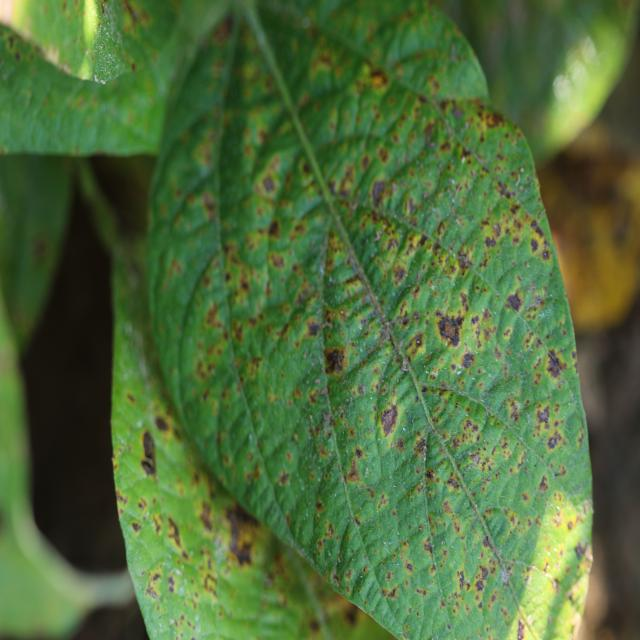Bacterial_Blight: (440, 404, 500, 467), (323, 298, 363, 354), (469, 311, 492, 351), (441, 308, 463, 349), (244, 229, 268, 259), (379, 403, 399, 436), (212, 17, 233, 46), (404, 332, 426, 359), (325, 347, 345, 375), (345, 456, 364, 484), (503, 397, 522, 425), (545, 349, 562, 378), (371, 179, 388, 206), (206, 302, 223, 329), (474, 564, 490, 592), (367, 68, 388, 88), (423, 121, 439, 146), (536, 404, 550, 430), (505, 291, 522, 312), (202, 194, 218, 216), (457, 252, 474, 272), (320, 409, 332, 435), (415, 437, 429, 459), (574, 540, 588, 561), (270, 252, 285, 271), (392, 265, 406, 285), (461, 350, 475, 369), (262, 175, 276, 194), (381, 584, 398, 599), (306, 319, 320, 337), (268, 218, 280, 238), (517, 620, 527, 640), (500, 566, 510, 586), (538, 474, 549, 492), (377, 493, 388, 511), (399, 356, 410, 373), (484, 235, 497, 249), (446, 476, 459, 490), (278, 471, 289, 486), (530, 237, 540, 253), (458, 571, 466, 590), (425, 468, 435, 482), (240, 278, 249, 292), (482, 535, 491, 548), (542, 561, 550, 575), (548, 436, 557, 448), (354, 448, 363, 459), (542, 249, 550, 260), (405, 562, 413, 572)
Soybean: (147, 0, 594, 640)
